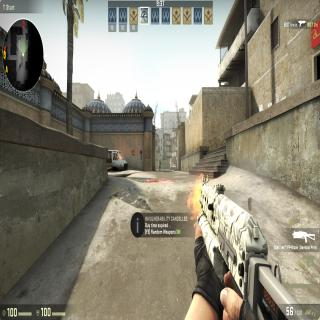CT-Body: (158, 158, 162, 170), (162, 160, 164, 170)
